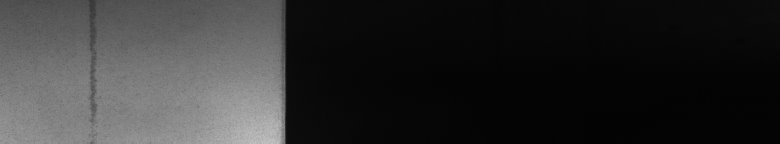hd: (84, 4, 103, 124)
